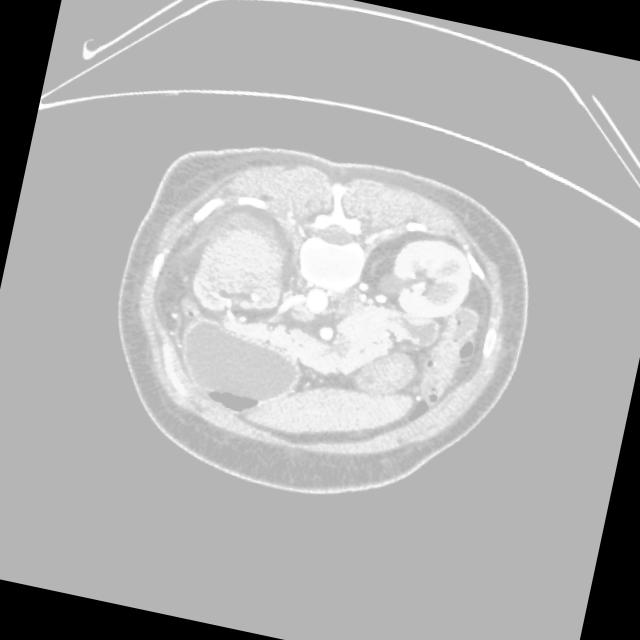TUMOR: (110, 254, 538, 512)
